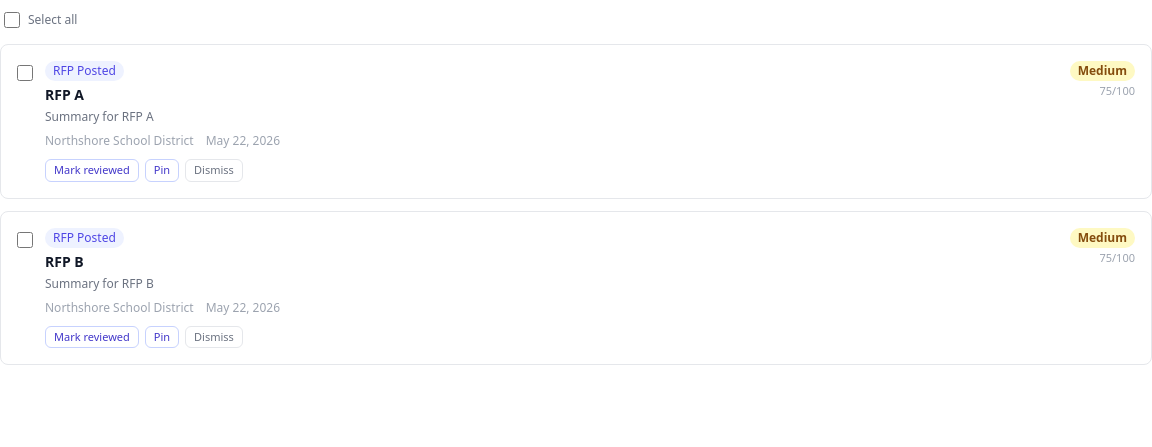
FeedList — multi-select (G3) › toggling a selected row off updates the count
This screenshot has width=1152, height=447.
Click the 1st checkbox with test id "feed-item-select": {"x": 25, "y": 73} [17, 65, 33, 81]
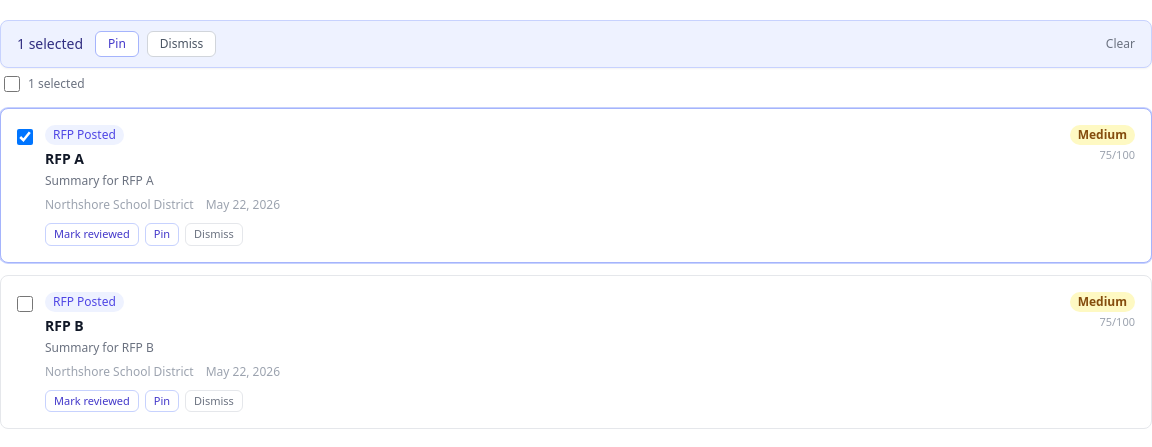
Click the 2nd checkbox with test id "feed-item-select": {"x": 25, "y": 304} [17, 296, 33, 312]
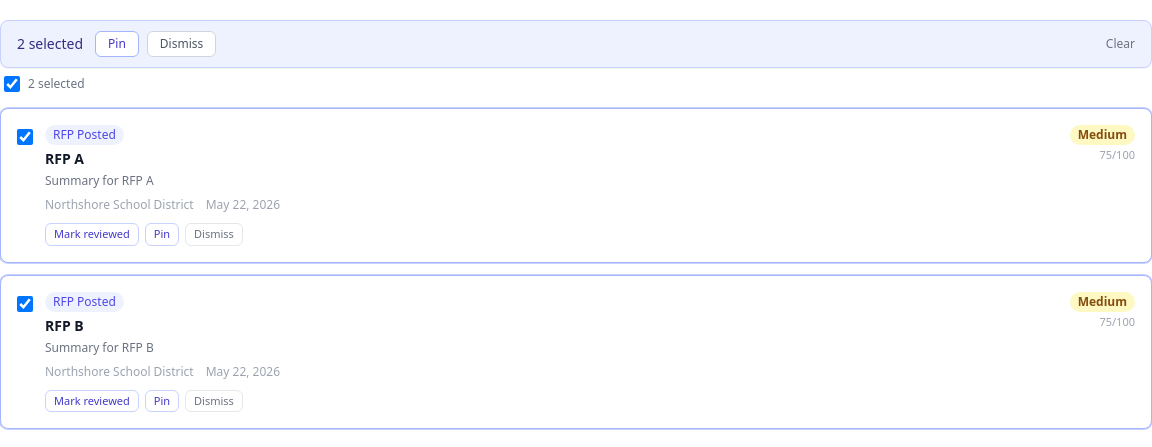
Result: the text with test id "bulk-selected-count" reads "2 selected" at [17, 34, 83, 54]
Click the 1st checkbox with test id "feed-item-select": {"x": 25, "y": 137} [17, 129, 33, 145]
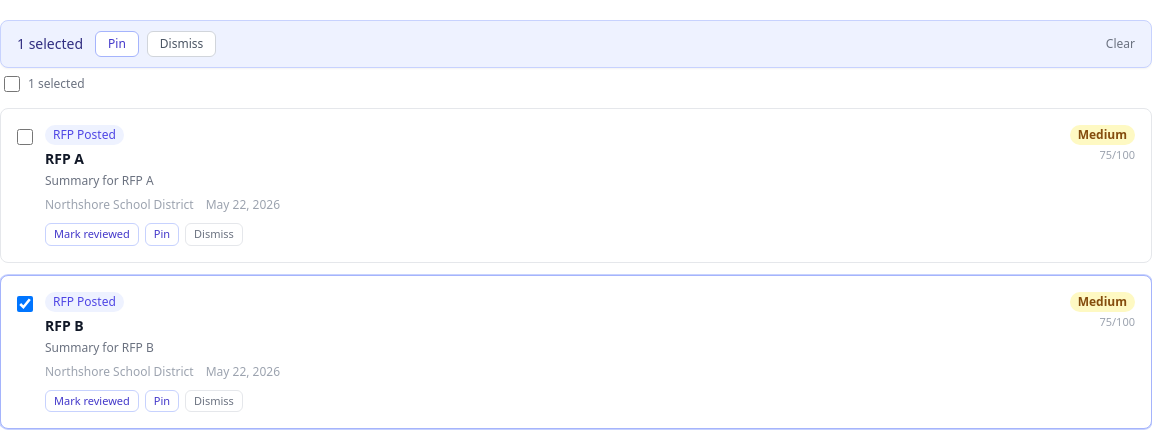
Result: the text with test id "bulk-selected-count" reads "1 selected" at [17, 34, 83, 54]
